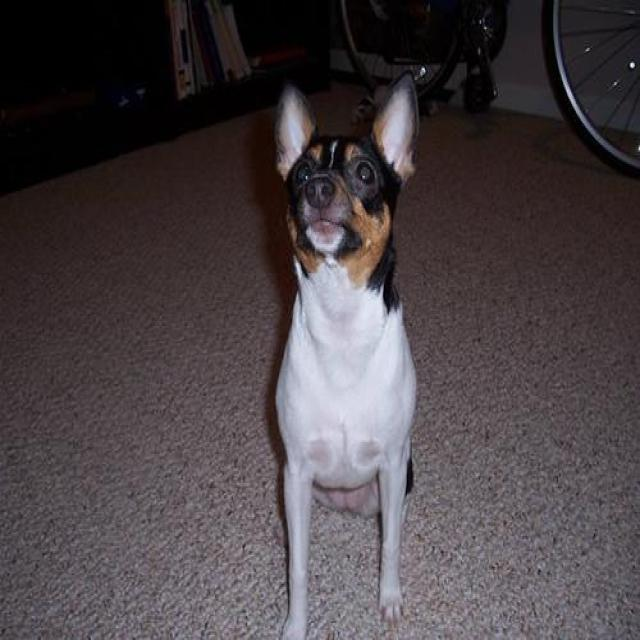toy_terrier: (266, 67, 421, 638)
